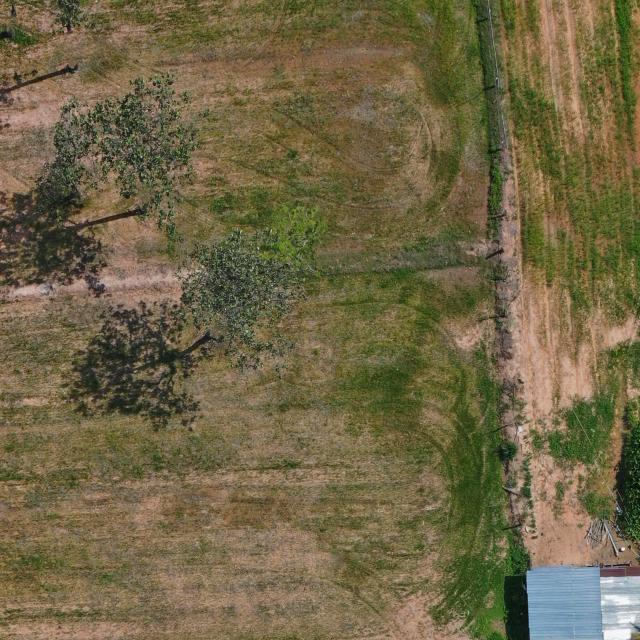Tree: (48, 69, 214, 233), (168, 226, 310, 383)
